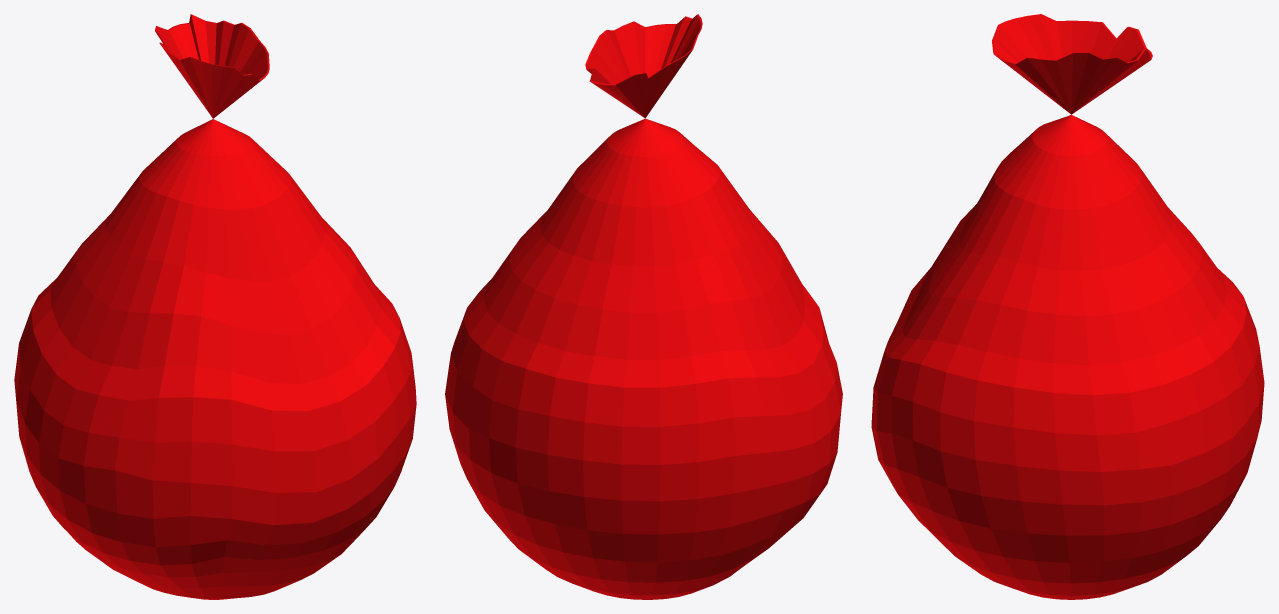
File: lixo 02.fbx
The picture shows the model from 3 angles, left to right: view 1: azimuth 30°, elevation 25°; view 2: azimuth 150°, elevation 25°; view 3: azimuth 270°, elevation 25°; orthographic projection.
Parts seen in each view (by area): view 1: lixo 01; view 2: lixo 01; view 3: lixo 01.
Boxes of the visible parts, box(x1,y1,x2,y2) form: lixo 01: box(14, 14, 416, 599); lixo 01: box(445, 14, 842, 599); lixo 01: box(871, 14, 1264, 599).
Bounding box in the file's own units: 65.11 × 99.63 × 64.59.
